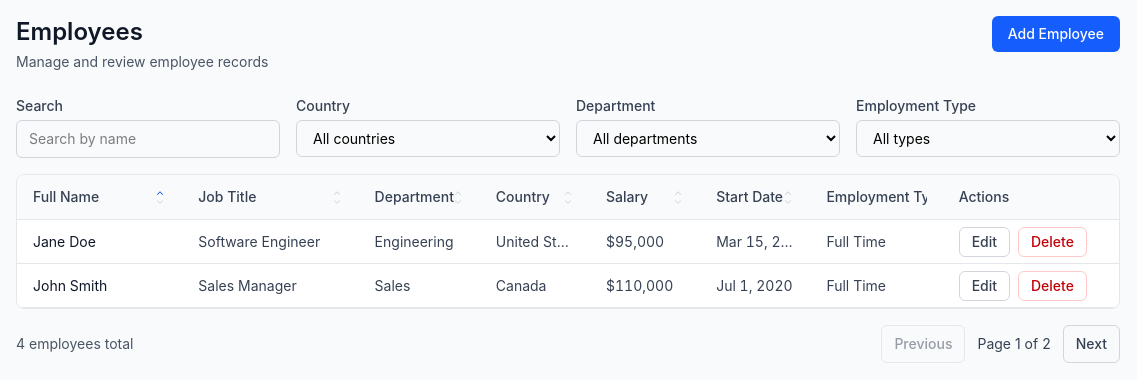
Test: EmployeeList › fetches page 2 when next page is clicked
Expected: the cell "Jane Doe" is shown, [17,220,182,264]
Click the button "Next" at (1091, 344), box [1063,325,1120,363]
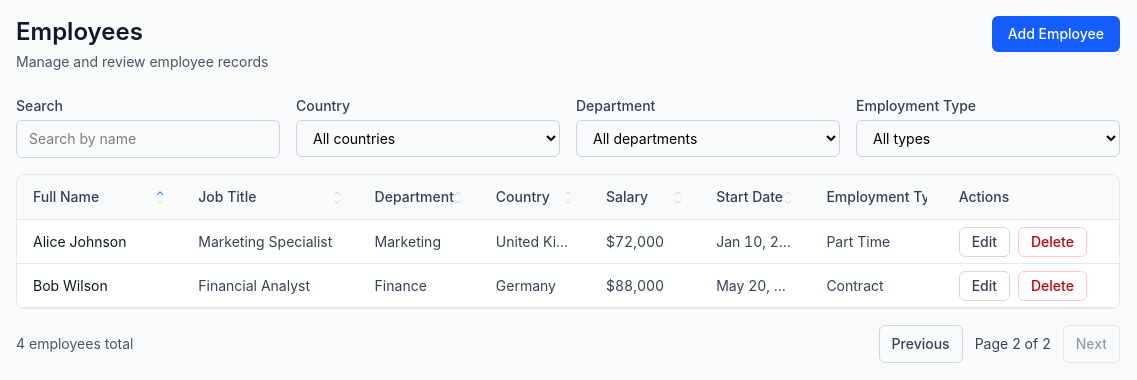
Now the cell "Alice Johnson" is shown, box [17,220,182,264]
Now the text "Page 2 of 2" is shown, box [975,334,1051,354]
